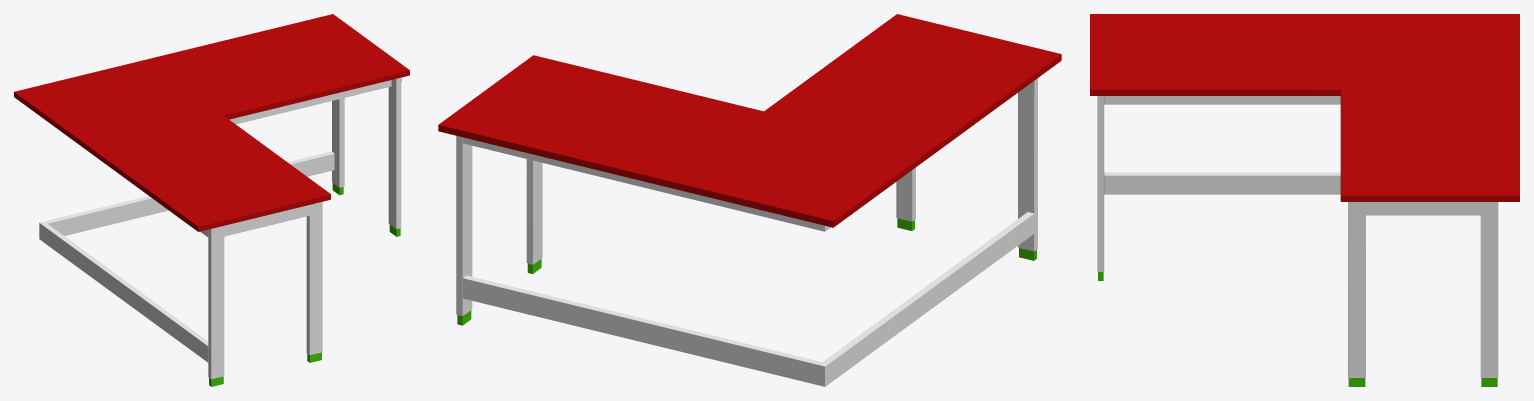
The model's file is Desk01c.fbx.
The picture shows the model from 3 angles, left to right: view 1: azimuth 30°, elevation 25°; view 2: azimuth 150°, elevation 25°; view 3: azimuth 270°, elevation 25°; orthographic projection. The views are drawn at different scales.
Parts seen in each view (by area): view 1: Desk01c; view 2: Desk01c; view 3: Desk01c.
Boxes of the visible parts, x1,y1,x2,y2 form: Desk01c: (14, 14, 409, 386); Desk01c: (438, 14, 1061, 386); Desk01c: (1090, 14, 1519, 386).
Bounding box in the file's own units: 150 × 150 × 75.
